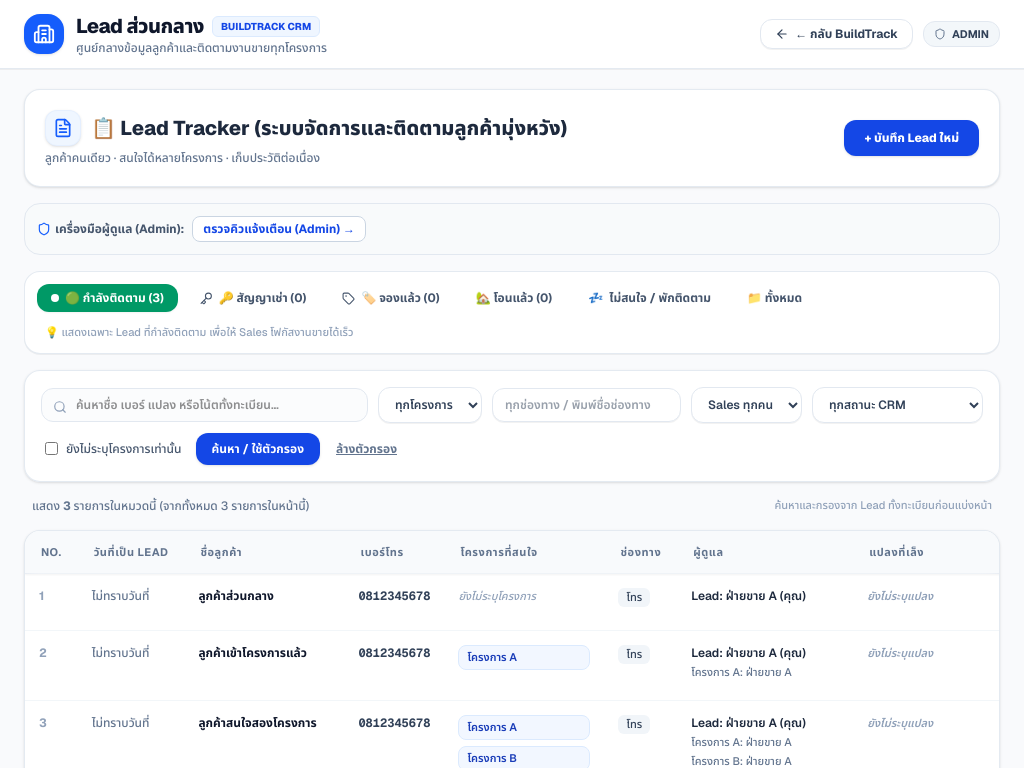
central lead workspace › hides queue monitoring by default and during intake without reading the queue
The image size is (1024, 768).
Click the button "+ บันทึก Lead ใหม่": (912, 138) x1=844 y1=120 x2=979 y2=156
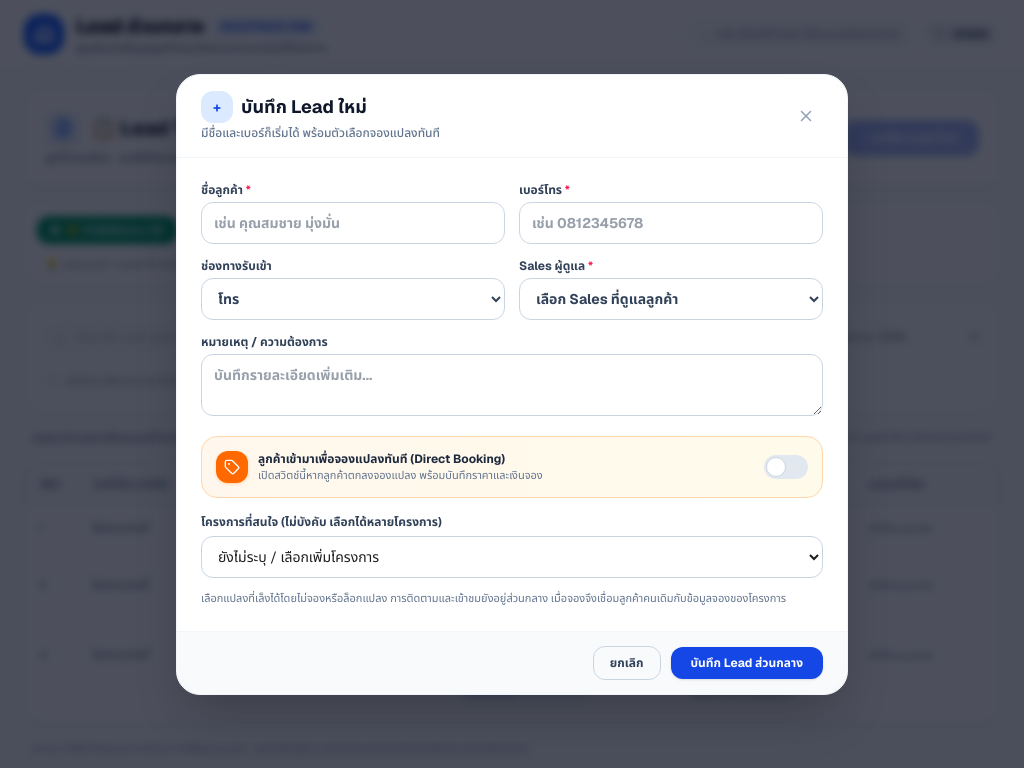
Now the link "ตรวจคิวแจ้งเตือน (Admin) →" is gone
